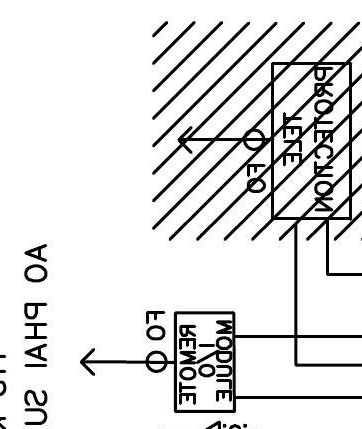remote_io_module: (172, 309, 238, 415)
tele_protection: (269, 59, 355, 222)
